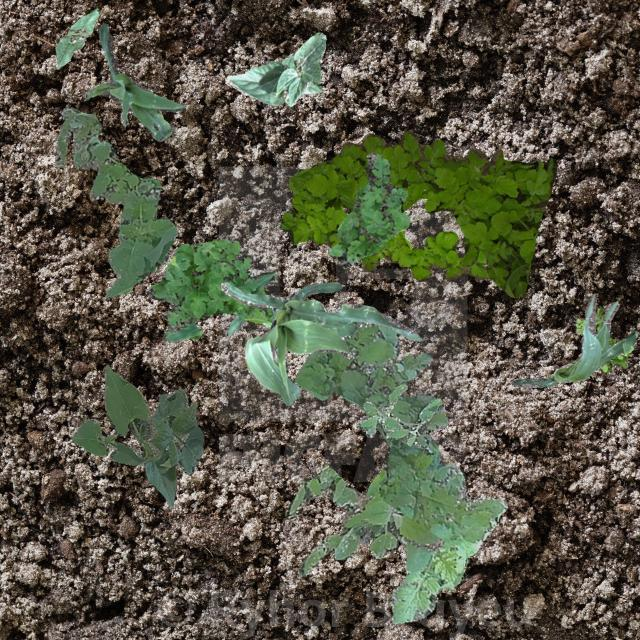crop: (219, 280, 422, 404), (72, 364, 202, 506), (82, 22, 184, 140), (512, 293, 636, 387), (224, 52, 322, 104), (258, 31, 324, 106), (224, 278, 276, 336), (54, 8, 99, 68)
weed: (294, 323, 506, 622), (288, 130, 556, 296), (54, 105, 175, 296), (281, 192, 488, 280), (284, 464, 444, 576), (147, 237, 276, 341), (328, 150, 408, 266), (356, 382, 440, 454), (574, 304, 632, 372)
